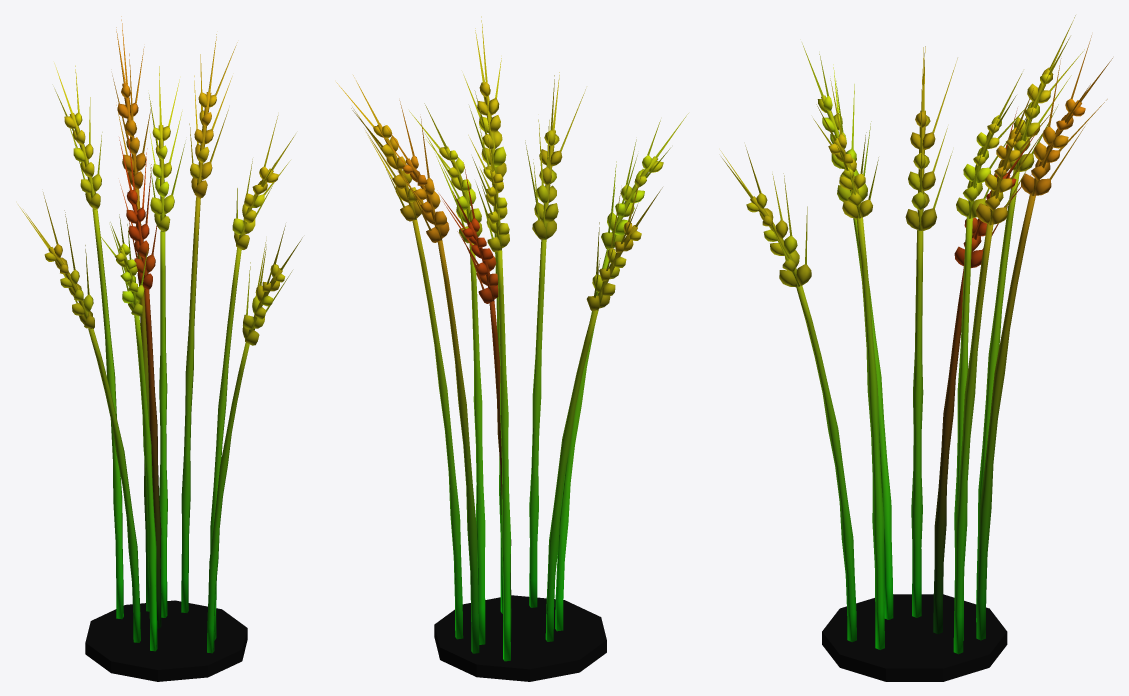
File: HOB_WheatClump_LOD1.fbx
The picture shows the model from 3 angles, left to right: view 1: azimuth 30°, elevation 25°; view 2: azimuth 150°, elevation 25°; view 3: azimuth 270°, elevation 25°; orthographic projection. The views are drawn at different scales.
Parts seen in each view (by area): view 1: HOB_WheatClump_LOD1; view 2: HOB_WheatClump_LOD1; view 3: HOB_WheatClump_LOD1.
Boxes of the visible parts, bbox=[...] form: HOB_WheatClump_LOD1: bbox=[18, 16, 302, 681]; HOB_WheatClump_LOD1: bbox=[336, 16, 688, 681]; HOB_WheatClump_LOD1: bbox=[720, 15, 1112, 681].
Bounding box in the file's own units: 69.84 × 143 × 81.42.
